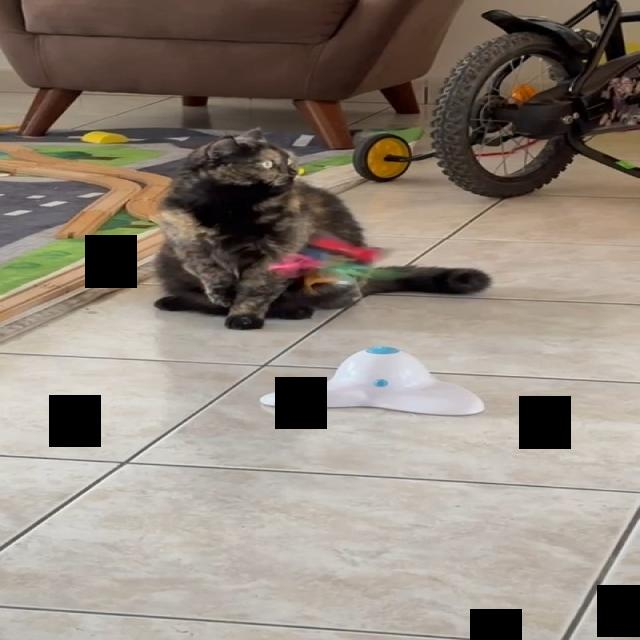authorized: (152, 126, 491, 330)
